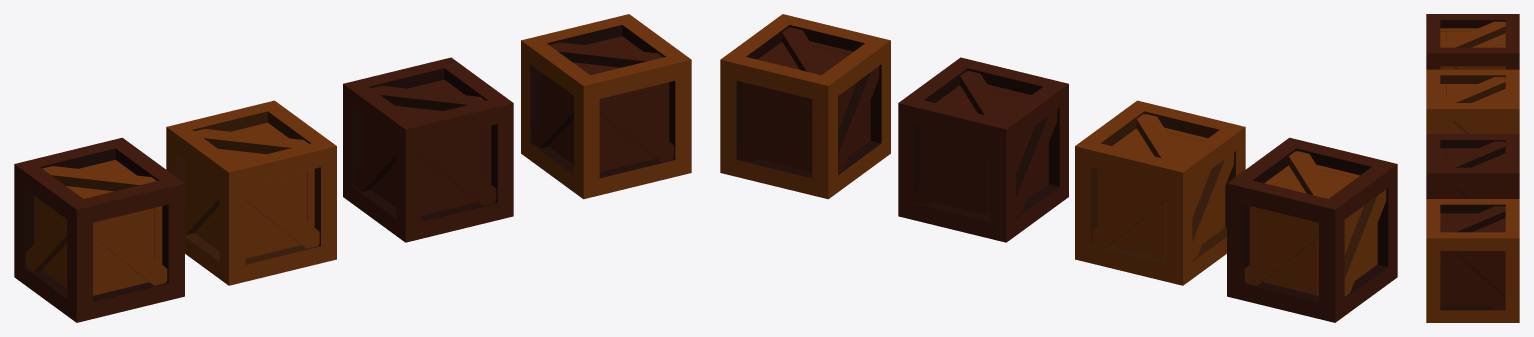
The model's file is Boxes.fbx.
3 views of the same model, side by side, from view 1: azimuth 30°, elevation 25°; view 2: azimuth 150°, elevation 25°; view 3: azimuth 270°, elevation 25° (orthographic). The views are drawn at different scales.
Visible parts, largest first — view 1: Box005, Box003, Box006, Box004; view 2: Box005, Box003, Box006, Box004; view 3: Box006, Box004, Box005, Box003.
Part boxes in pixels (box(x1,y1,x2,y2)): Box005: box(343, 57, 513, 242); Box003: box(14, 137, 184, 322); Box006: box(521, 14, 691, 199); Box004: box(166, 100, 336, 285); Box005: box(898, 57, 1068, 242); Box003: box(1227, 137, 1397, 322); Box006: box(720, 14, 890, 199); Box004: box(1075, 100, 1245, 285); Box006: box(1426, 199, 1519, 322); Box004: box(1426, 69, 1519, 133); Box005: box(1426, 134, 1519, 198); Box003: box(1426, 14, 1519, 69).
Bounding box in the file's own units: 284 × 50 × 50.
